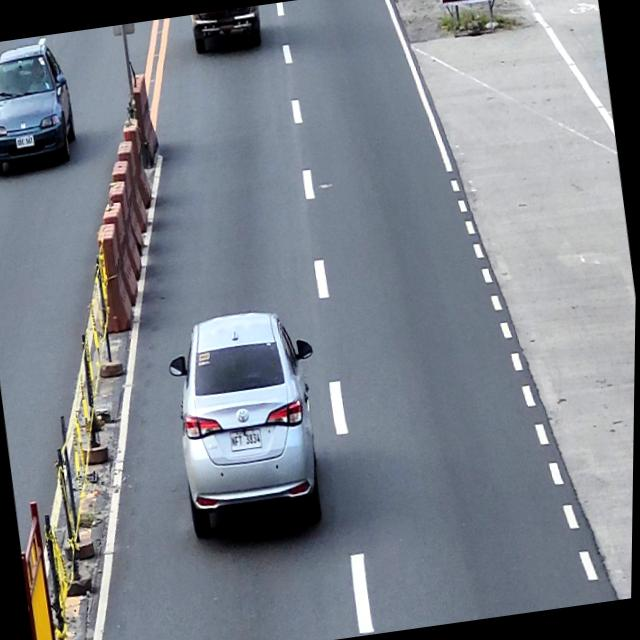Car: (161, 302, 338, 540), (0, 36, 82, 177), (189, 5, 264, 54)
License-Plate: (229, 425, 265, 452), (14, 132, 36, 149)
